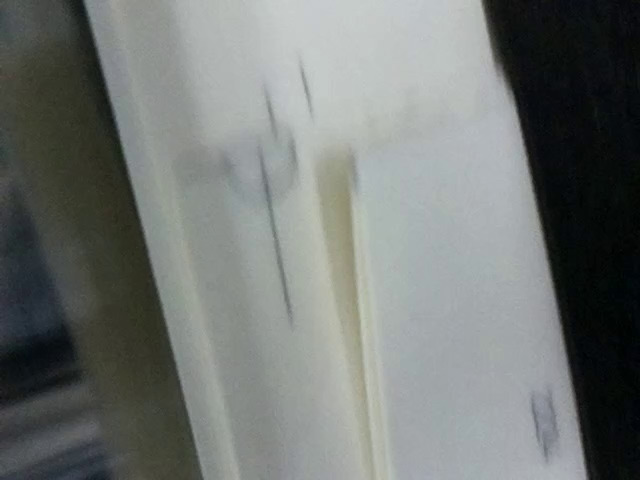not_sure: (172, 79, 300, 207)
